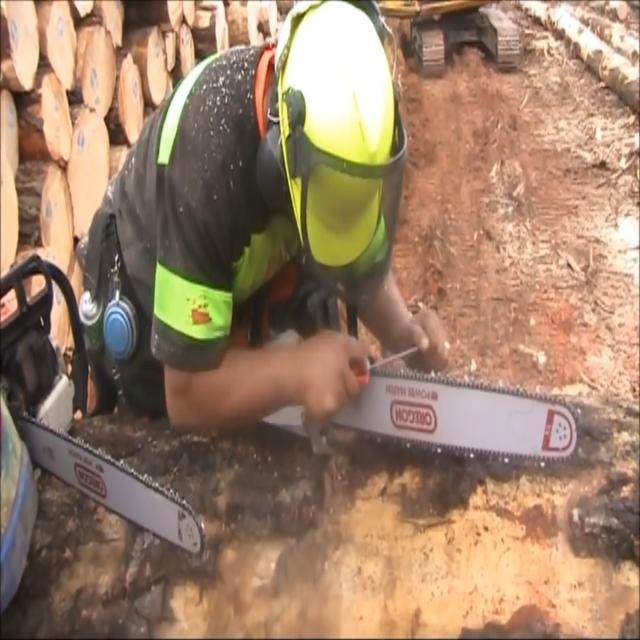Chainsaw: (234, 258, 584, 492), (0, 252, 226, 569)
